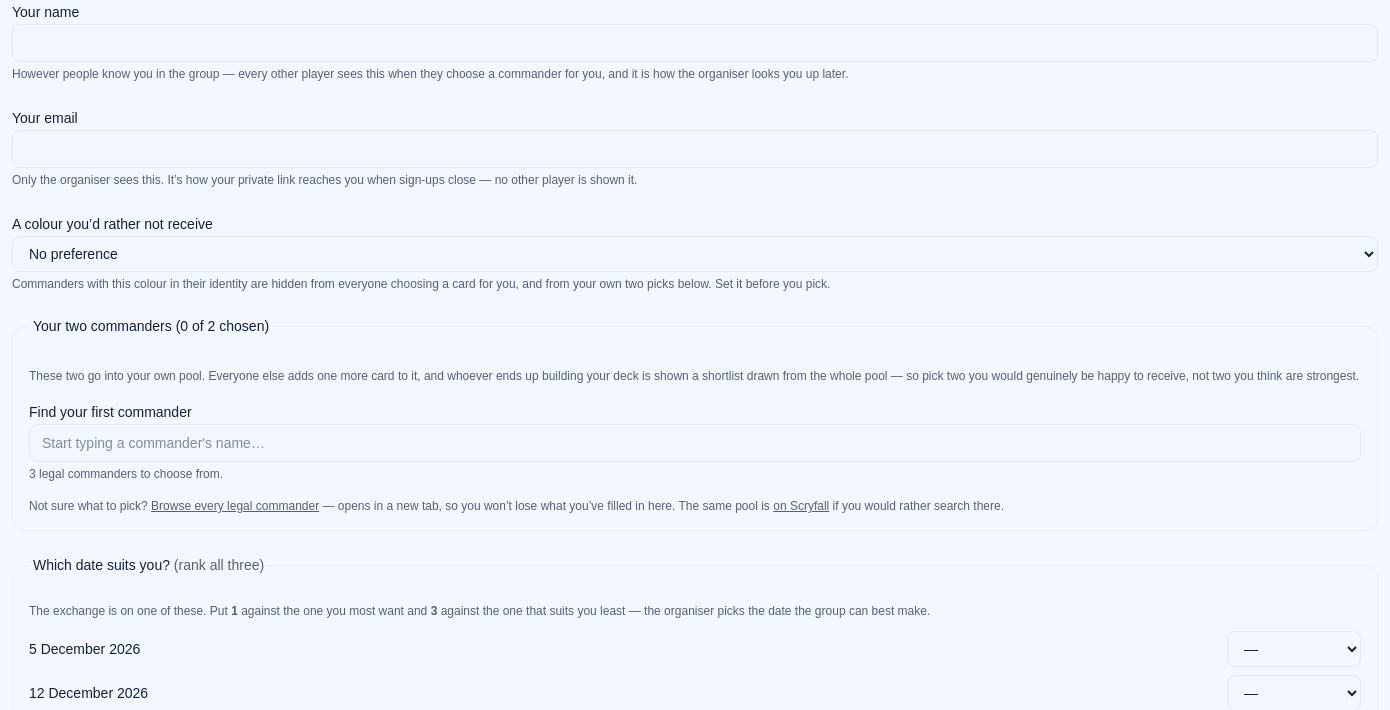
Test case: SignupForm › hides the picker once two are chosen, and shows it again after a removal
This screenshot has width=1390, height=710.
In the dropdown labelled "Find your first commander": coordinates (695, 443) [29,424,1361,462], type "Anara,"
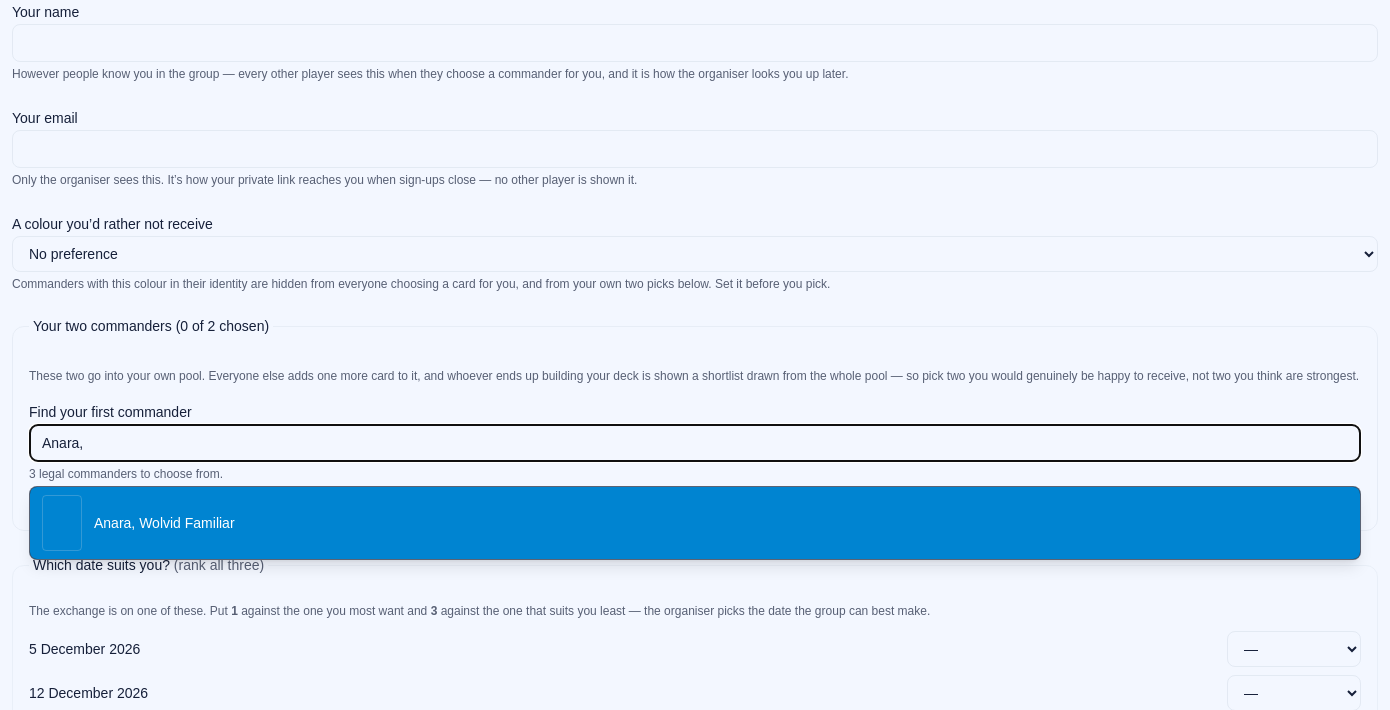
Click the option "Anara, Wolvid Familiar": coordinates (62, 523) [30,487,1360,559]
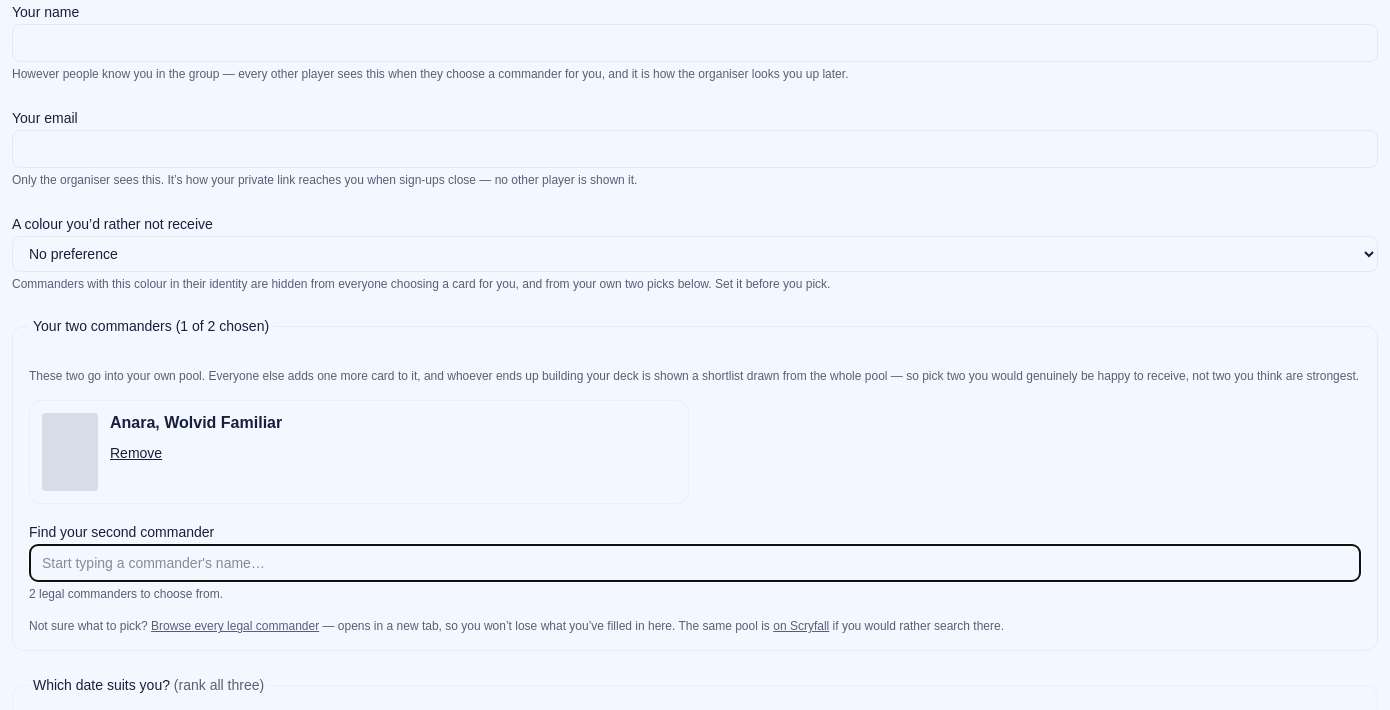
In the dropdown labelled "Find your second commander": coordinates (695, 563) [29,544,1361,582], type "Selval"
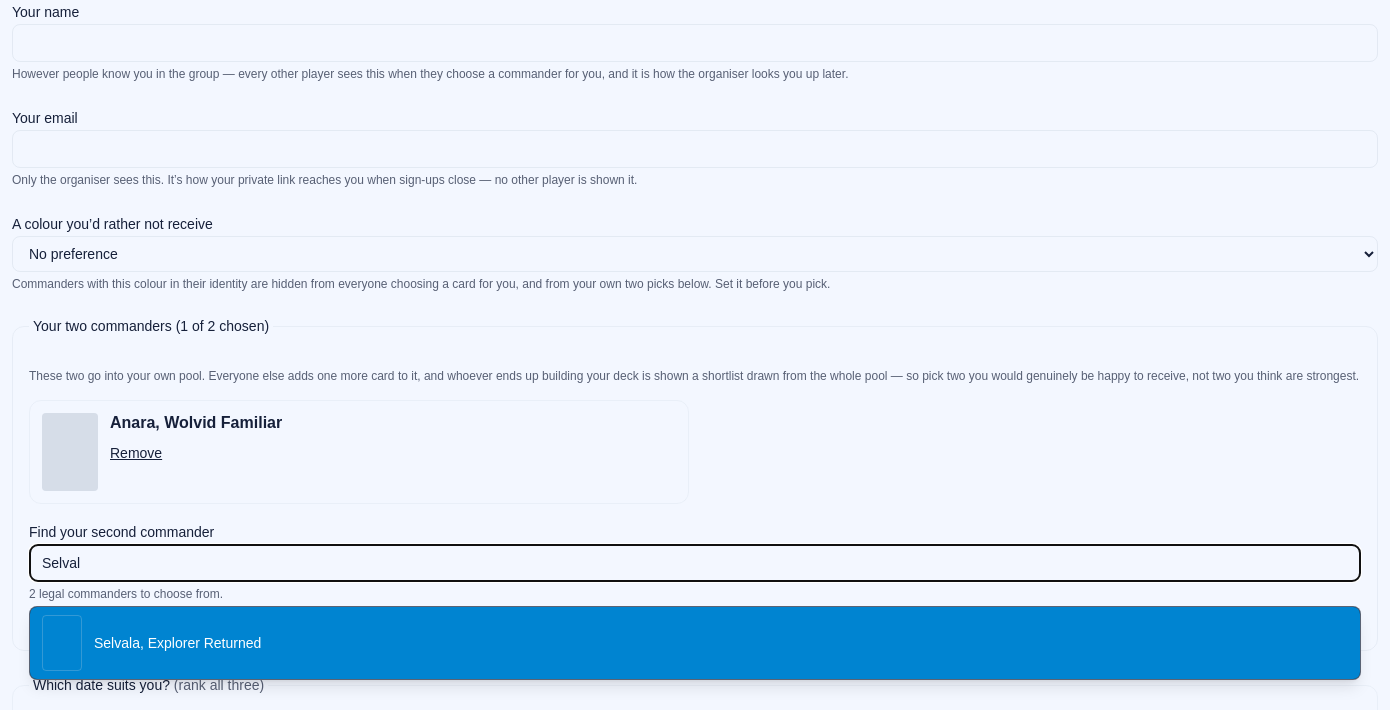
Click the option "Selvala, Explorer Returned": coordinates (62, 643) [30,607,1360,679]
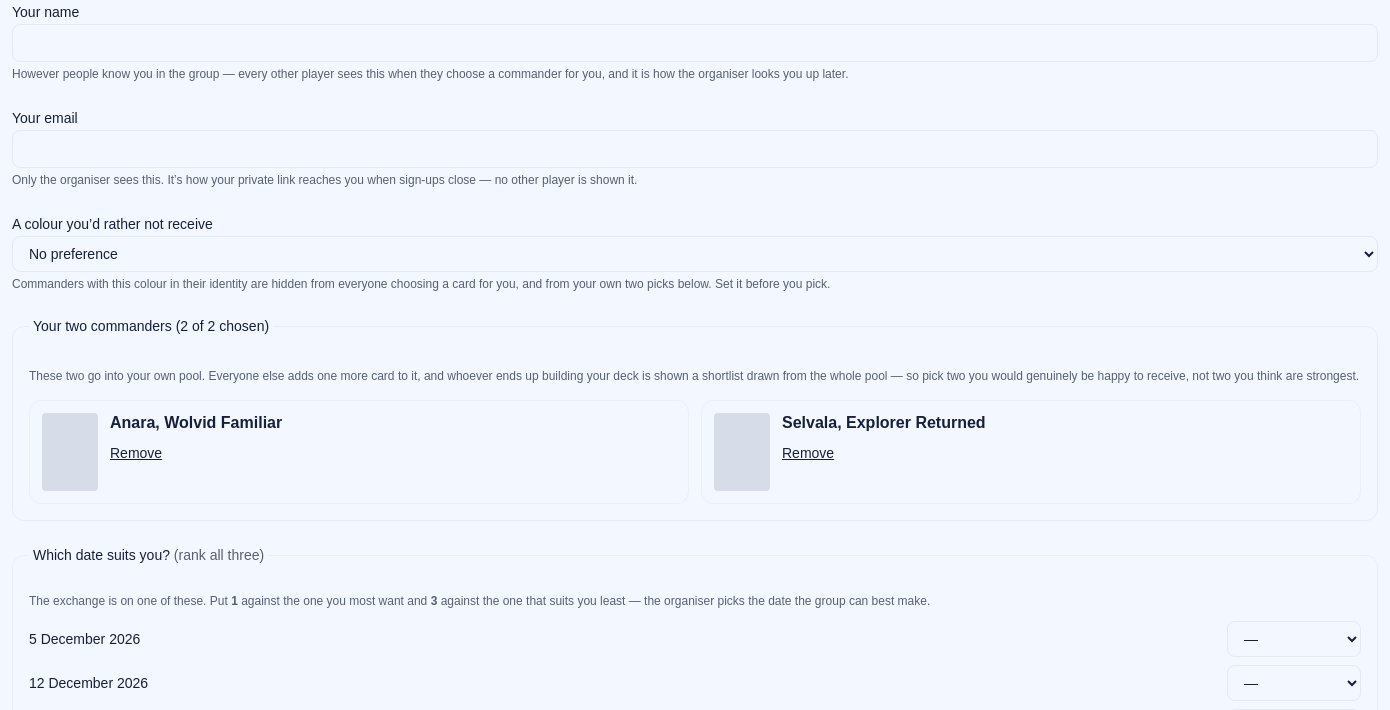
Check: the text "Find your" is gone
Click the button "Remove" below "Anara, Wolvid Familiar": coordinates (136, 453) [110,443,162,463]
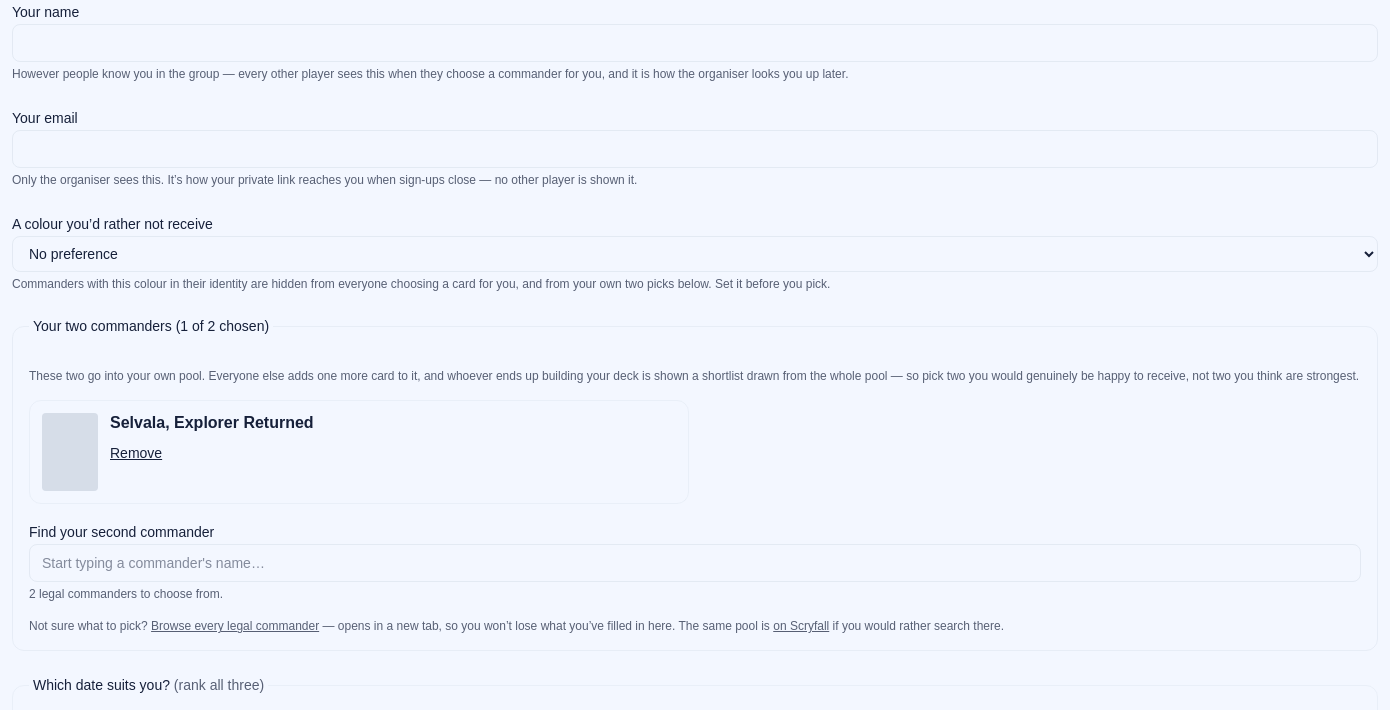
Check: the dropdown labelled "Find your second commander" is shown, box [29,544,1361,582]
